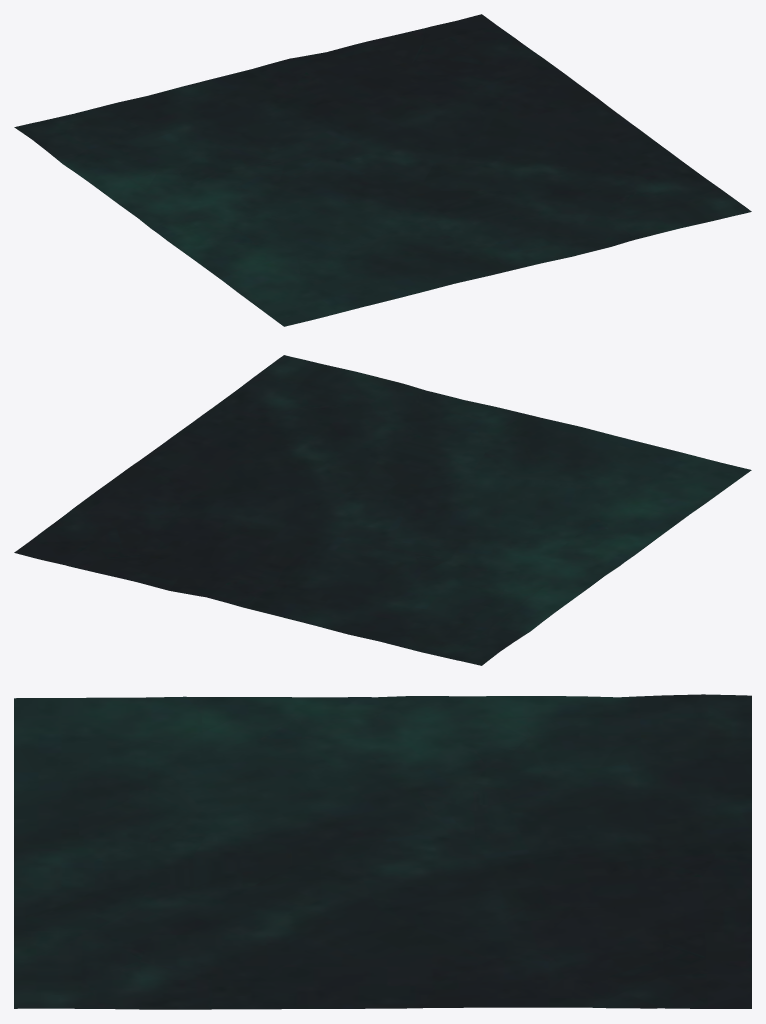
The picture shows the model from 3 angles, top to bottom: view 1: azimuth 30°, elevation 25°; view 2: azimuth 150°, elevation 25°; view 3: azimuth 270°, elevation 25°; orthographic projection. The views are drawn at different scales.
Size of the model in its own units: 52.22 by 0.4124 by 52.22.
Materials: 2 (2 with a texture image).
